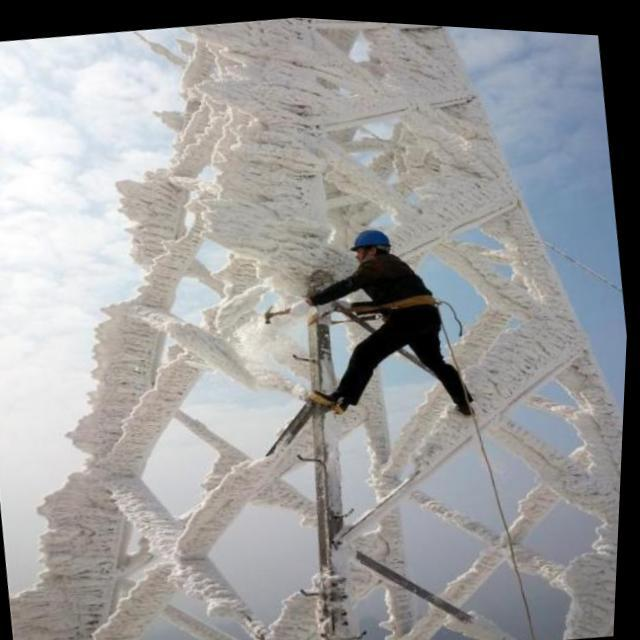belt: (338, 266, 485, 371)
